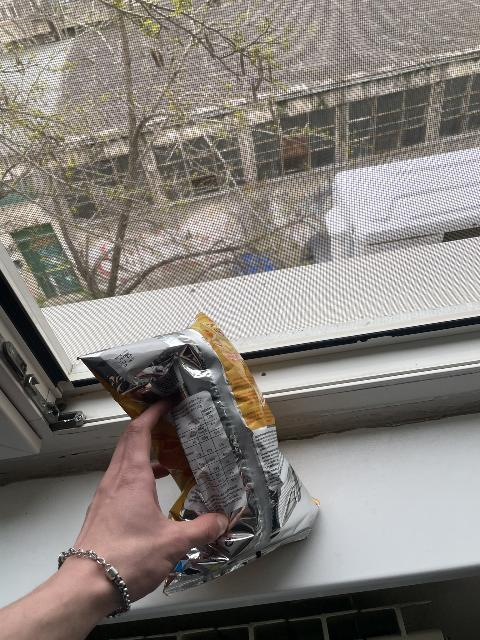Chio Hula Hoops Cheese 70g: (80, 317, 322, 593)
